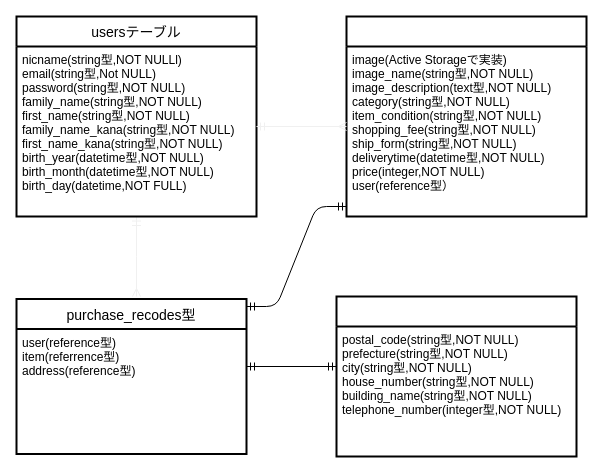
Some shapes in this 603 by 473 pixel diagram are drawn without their labels. Here are the shapes that lost their labels. From the top down, the box of each, then its label:
(345, 15, 587, 217): itemsテーブル
(335, 295, 577, 457): addressesテーブル
